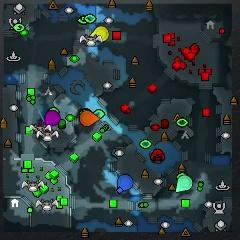p1: (118, 174, 134, 193)
p2: (176, 175, 192, 193)
p3: (44, 110, 61, 126)
p4: (90, 26, 110, 41)
p5: (79, 111, 100, 127)
